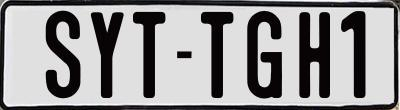1: (339, 9, 365, 100)
G: (247, 11, 284, 102)
H: (299, 10, 335, 100)
S: (45, 10, 83, 102)
T: (133, 12, 167, 103), (201, 12, 234, 99)
Y: (88, 11, 126, 102)
